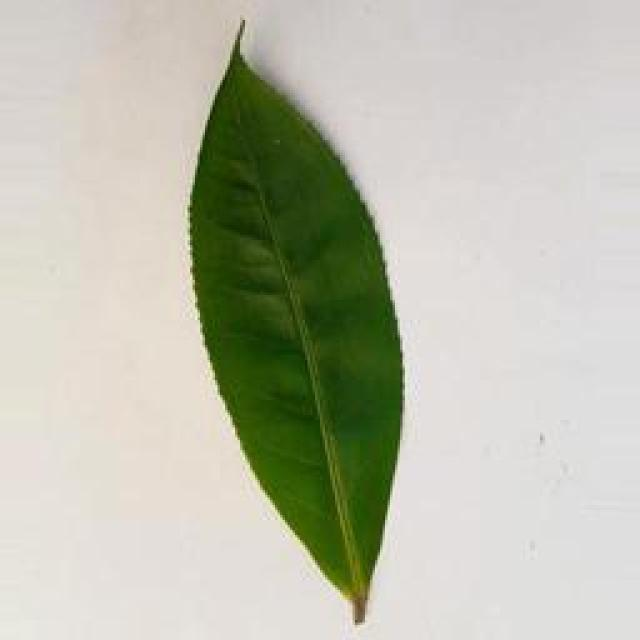Healthy: (170, 5, 412, 636)
